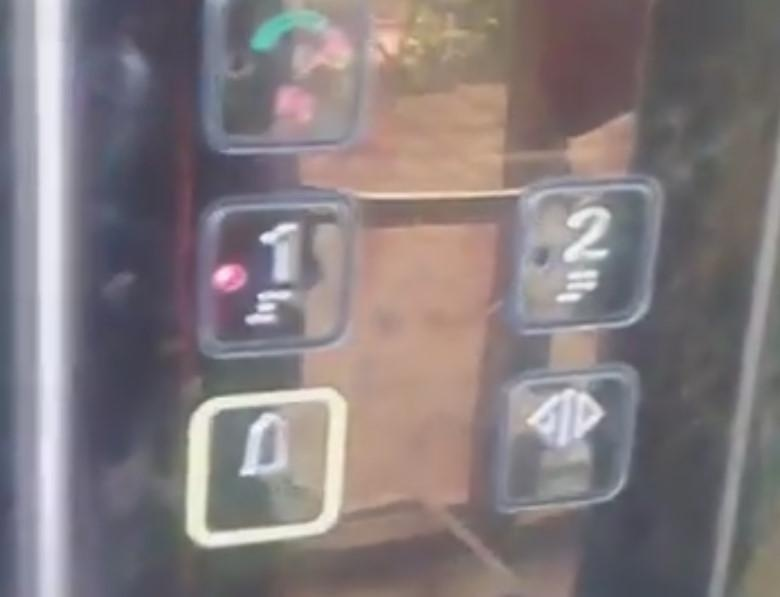1: (192, 189, 353, 360)
2: (503, 172, 665, 337)
alarm: (182, 383, 351, 552)
blur: (199, 1, 363, 159)
open: (488, 360, 642, 518)
